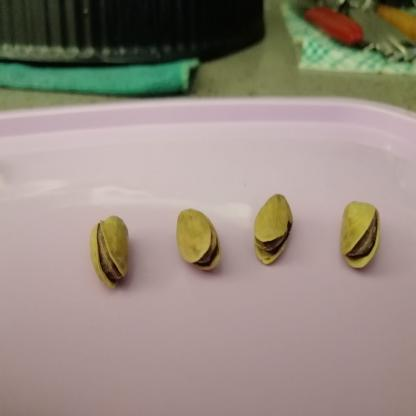pistachio: (87, 206, 139, 289), (167, 202, 223, 277), (334, 197, 387, 274), (252, 186, 291, 267)
